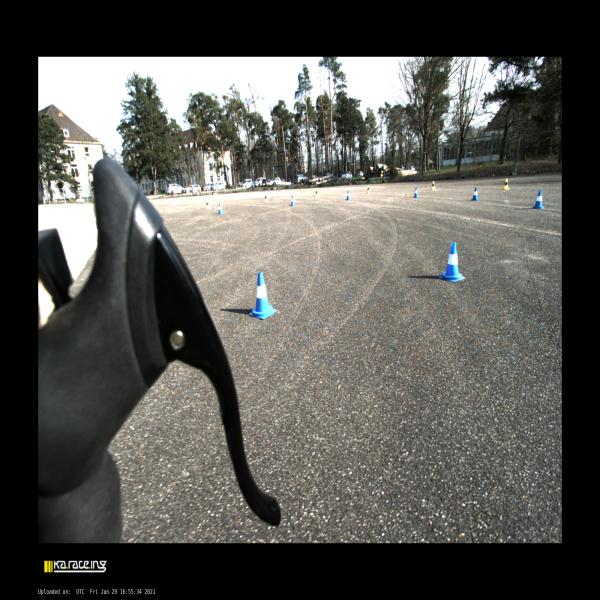blue_cone: (249, 272, 277, 319), (438, 242, 465, 281), (533, 190, 544, 209), (471, 187, 480, 201), (413, 186, 419, 198), (218, 203, 224, 214), (290, 196, 296, 206), (346, 190, 351, 200)
yellow_cone: (502, 178, 510, 190), (431, 181, 436, 190), (264, 194, 269, 202), (367, 185, 371, 194), (315, 189, 319, 197), (206, 201, 210, 208)
